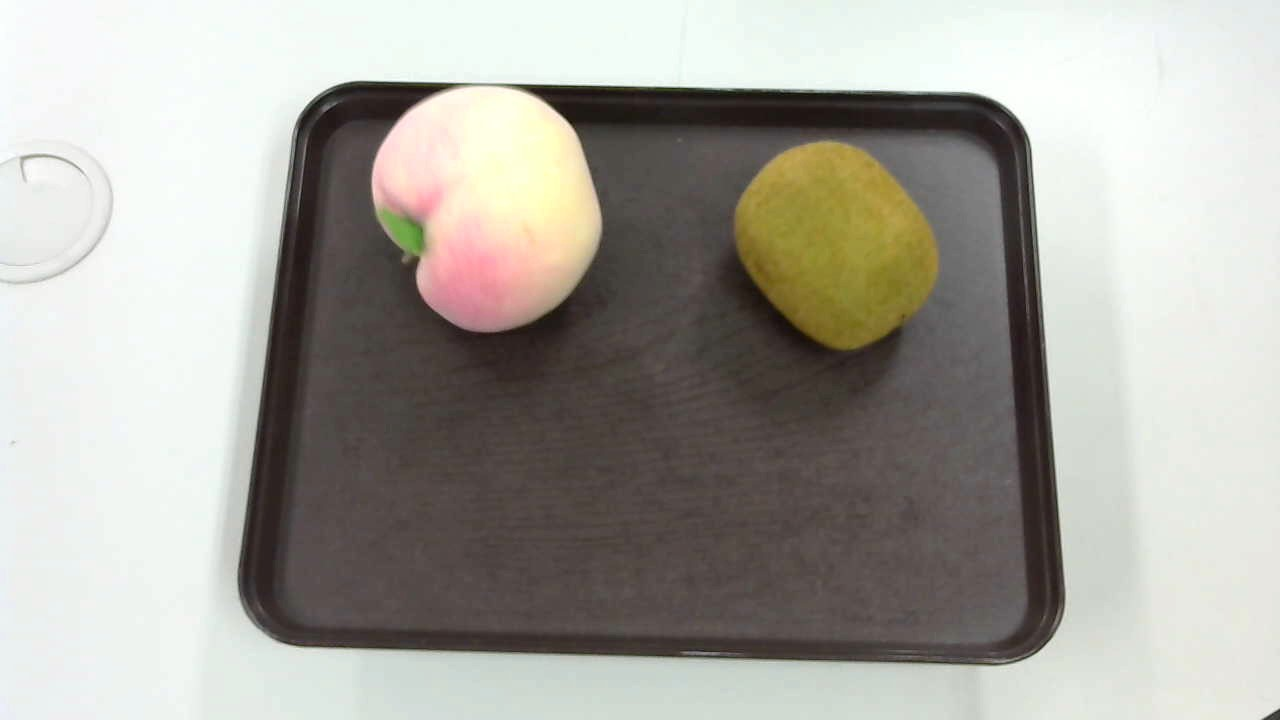kiwi fruit: (726, 135, 940, 349)
peach: (368, 81, 602, 332)
